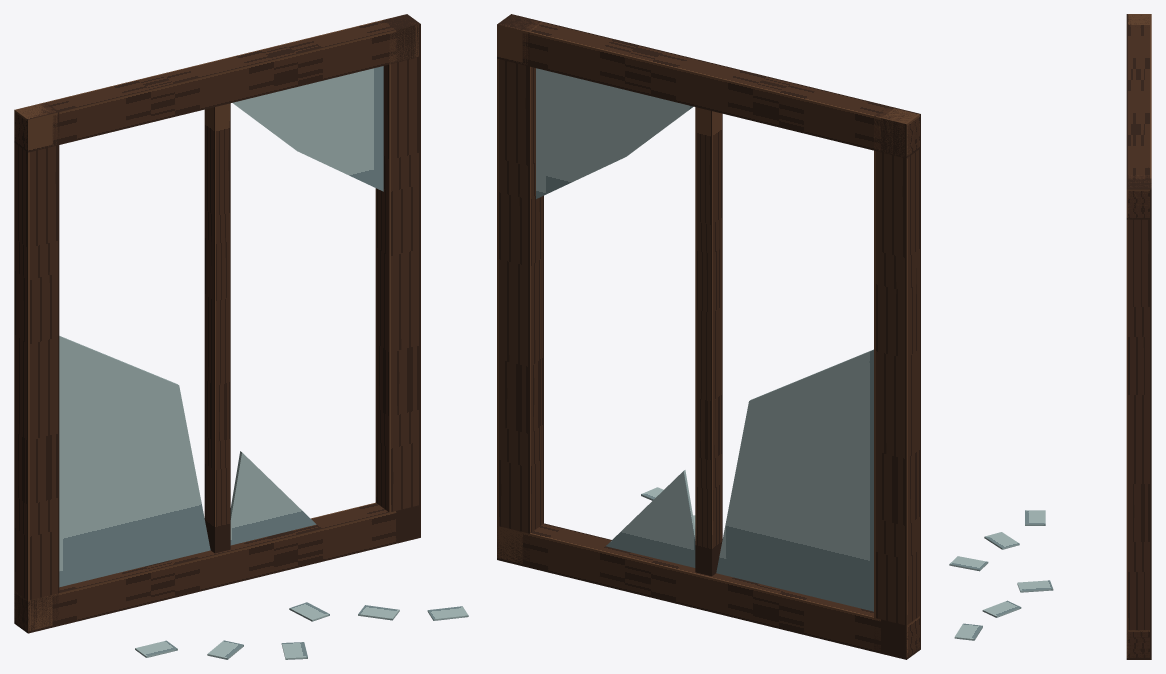
File: ABN_BrokenWindowPanel.glb
3 renders of one model, left to right at view 1: azimuth 30°, elevation 25°; view 2: azimuth 150°, elevation 25°; view 3: azimuth 270°, elevation 25°, orthographic. The views are drawn at different scales.
Parts seen in each view (by area): view 1: ABN_BrokenWindowPanel_Mesh; view 2: ABN_BrokenWindowPanel_Mesh; view 3: ABN_BrokenWindowPanel_Mesh.
Boxes of the visible parts, box(x1,y1,x2,y2) form: ABN_BrokenWindowPanel_Mesh: box(14, 14, 468, 659); ABN_BrokenWindowPanel_Mesh: box(497, 14, 920, 659); ABN_BrokenWindowPanel_Mesh: box(949, 14, 1151, 659).
Size of what is drawn, in the model's own units: 1 by 1.25 by 0.4867.
1 material, 1 textured.
